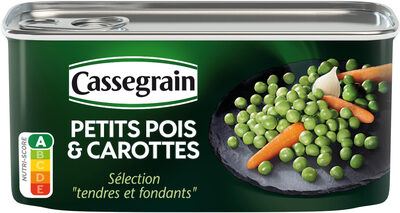Petits Pois & Carottes: (20, 11, 380, 202)
